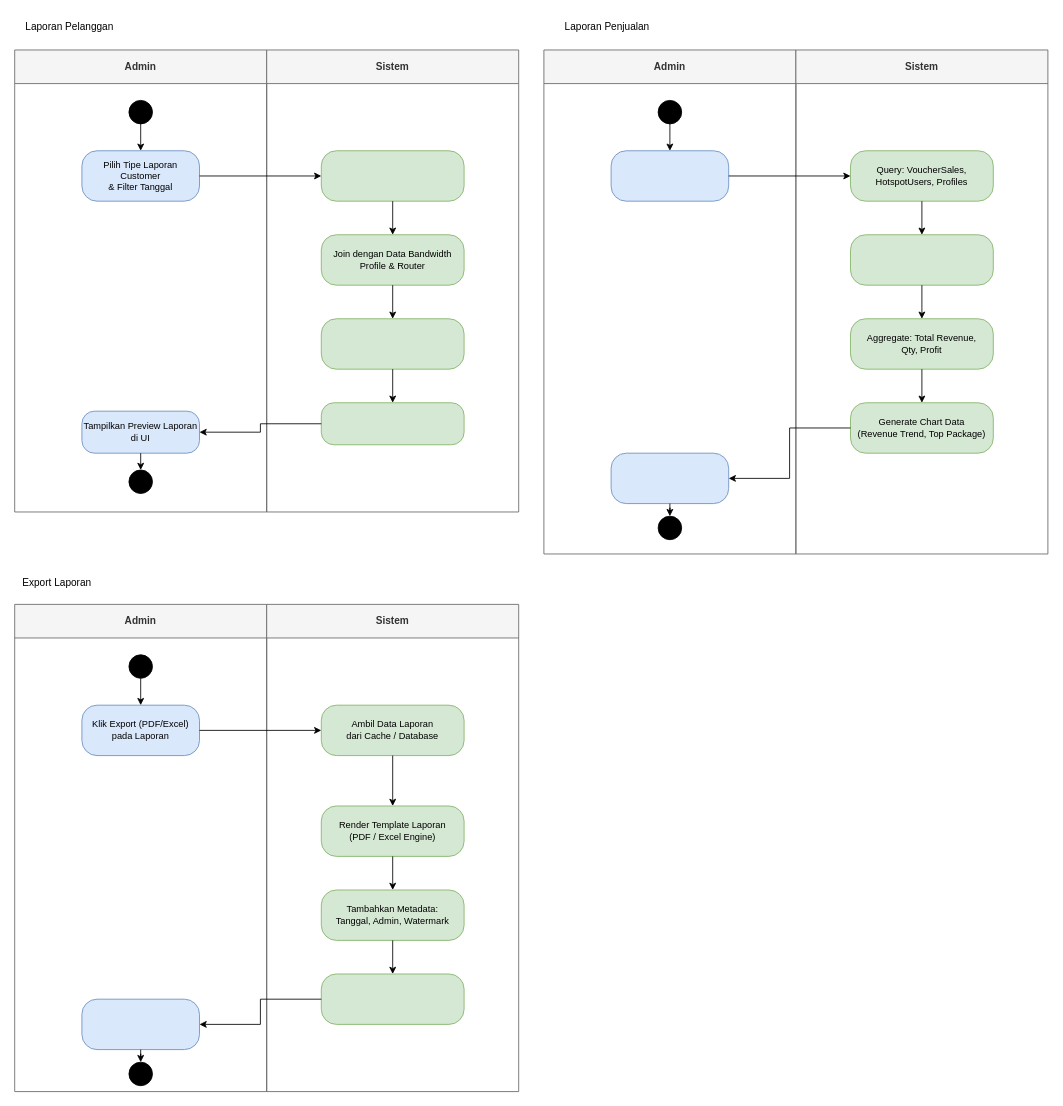
The diagram is 1063 pixels wide and 1106 high, and some of its shapes have lost their labels. Here are the shapes that lost their labels. From the top down, the centre of each, then its label:
pixel 392 175: Query Data: Customers, Subscriptions, Invoices
pixel 669 175: Pilih Periode & Filter Router / Profile
pixel 921 259: Group By: Tanggal, Router, Hotspot Profile
pixel 392 343: Aggregate: Status Aktif, Total Bayar, Riwayat
pixel 392 423: Simpan ke Cache (Redis)
pixel 669 478: Tampilkan Dashboard Penjualan + Grafik
pixel 392 998: Catat Log Export: User, Tipe, Waktu
pixel 140 1024: Download File ke Browser / Kirim ke Email
